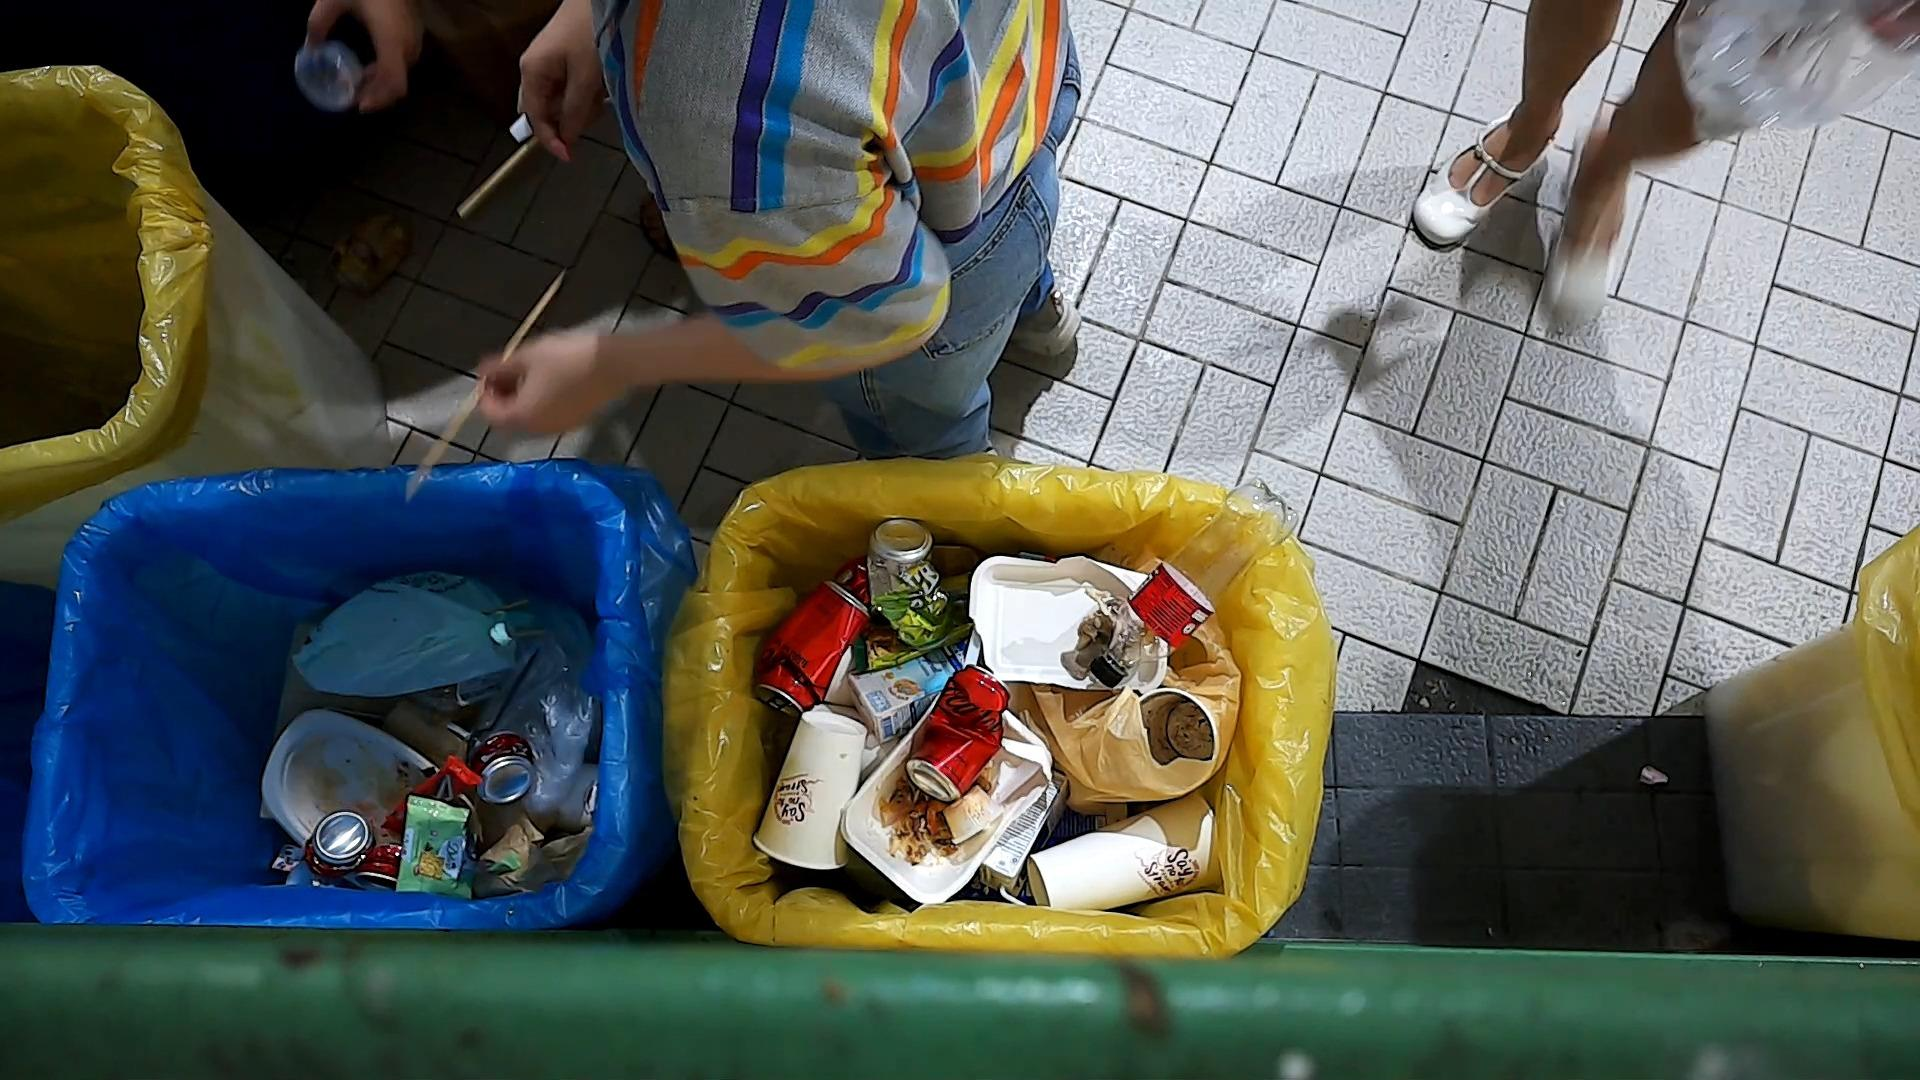can: (749, 575, 874, 721), (901, 662, 1015, 806), (864, 514, 957, 655), (301, 806, 378, 884), (469, 728, 539, 807)
dirty food container: (836, 686, 1056, 910), (965, 549, 1174, 695), (938, 778, 1007, 847)
filled plastic bag: (1027, 625, 1254, 816), (285, 562, 545, 702)
food container: (258, 704, 436, 852), (289, 37, 369, 117)
milk carton: (847, 632, 975, 753), (980, 762, 1073, 911)
paper bag: (479, 803, 595, 902)
plastic bag: (472, 576, 601, 820)
plastic bottle: (1084, 472, 1307, 690)
plastic cutlery: (463, 642, 546, 770)
snack packaging: (392, 791, 525, 903), (378, 752, 492, 839)
sticks: (401, 266, 567, 508), (454, 131, 543, 220)
zero waste cup: (1023, 787, 1226, 918), (749, 708, 868, 873)
